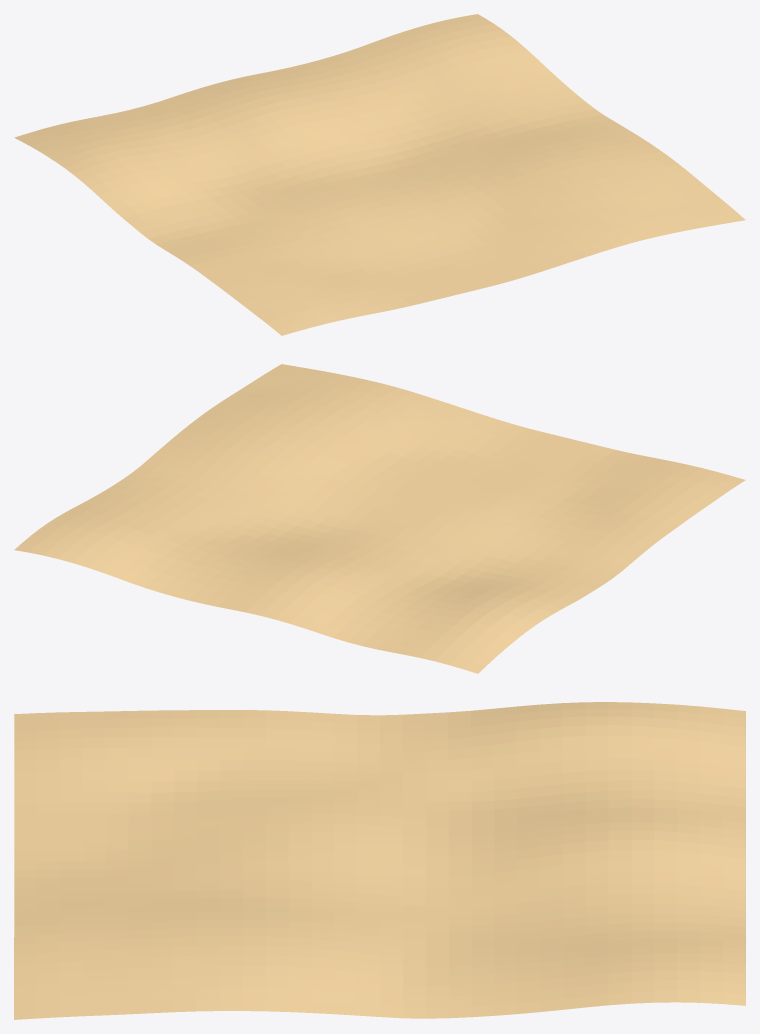
The model's file is Terrain.glb.
The picture shows the model from 3 angles, top to bottom: view 1: azimuth 30°, elevation 25°; view 2: azimuth 150°, elevation 25°; view 3: azimuth 270°, elevation 25°; orthographic projection. The views are drawn at different scales.
Parts seen in each view (by area): view 1: Plane; view 2: Plane; view 3: Plane.
Part boxes in pixels (box(x1,y1,x2,y2)): Plane: box(14, 14, 745, 335); Plane: box(14, 364, 745, 673); Plane: box(14, 702, 745, 1019).
Bounding box in the file's own units: 29.08 × 1.14 × 29.04.
Materials: 1 (1 with a texture image).
